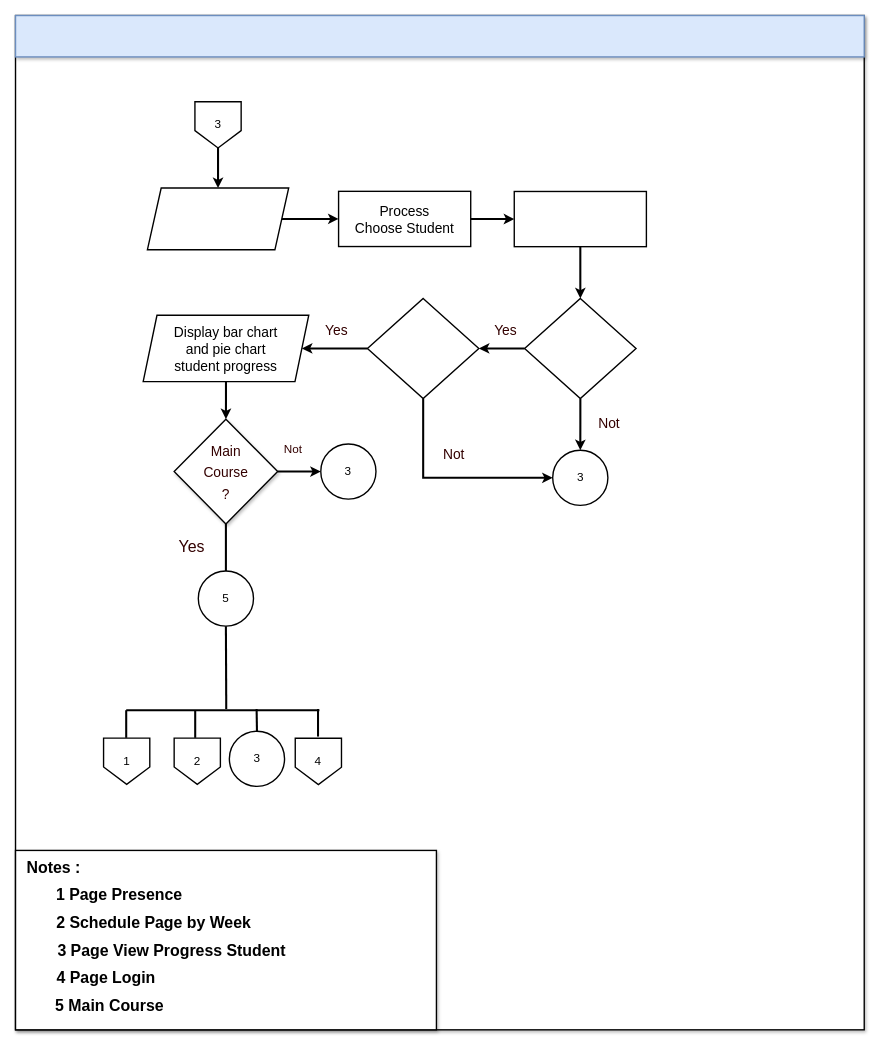
This 880x1047 diagram has some shape labels left out. The shapes that lost their labels are listed below. From the top down, each one's centre as x and y in pixels, then its label:
At point (440, 37): "Flowchart Page View Progress Student".
At point (217, 218): "Student Page View Progress".
At point (580, 218): "Process Choose Semester".
At point (422, 348): "is Data Available ?".
At point (580, 348): "Show Data ?".
